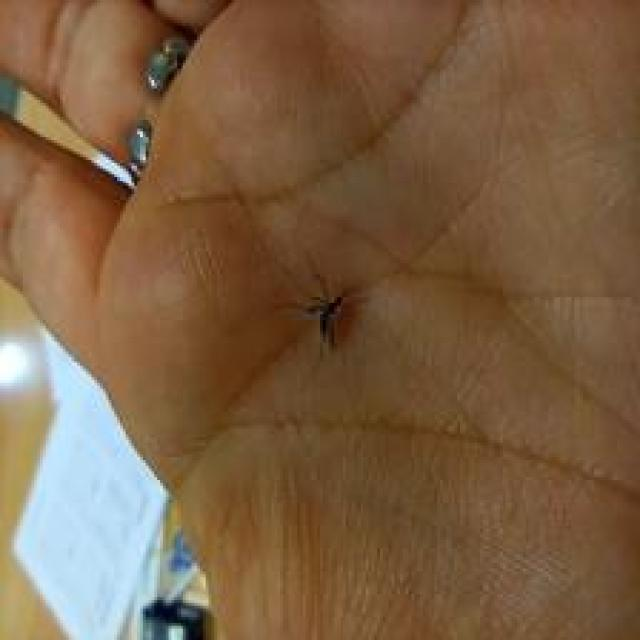Aedes albopictus: (274, 273, 369, 353)
